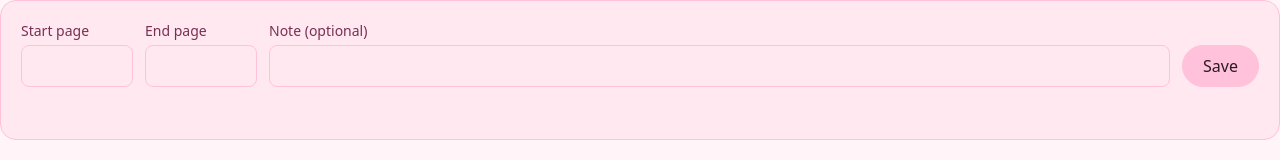
Test case: the live preview line › renders 'that's 1 page' for 43 to 43
Step 1. Type "43" into the field labelled "Start page" → (77, 66), box [21, 45, 133, 87]
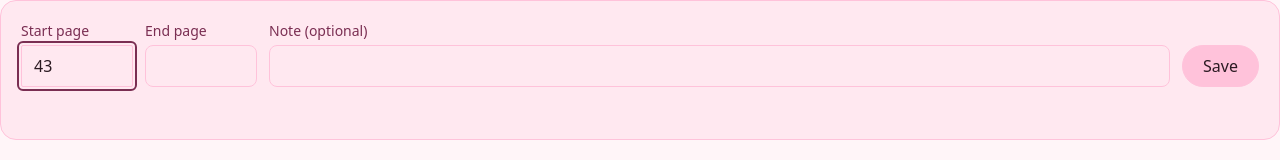
Step 2. Type "43" into the field labelled "End page" → (201, 66), box [145, 45, 257, 87]
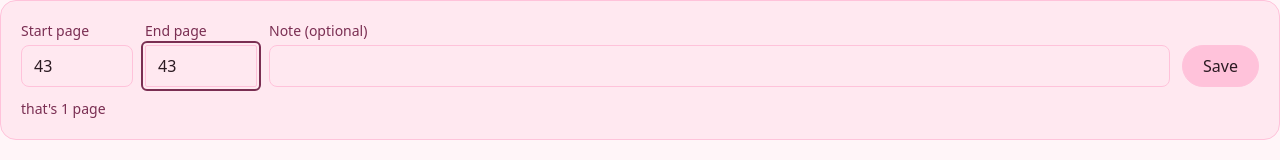
expect the text "that's 1 page" is shown: met, box [21, 99, 106, 118]
